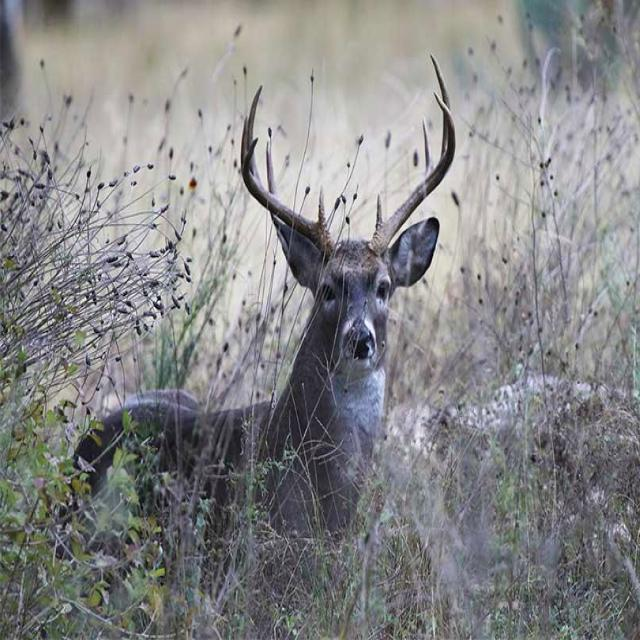deer: (79, 59, 455, 530)
